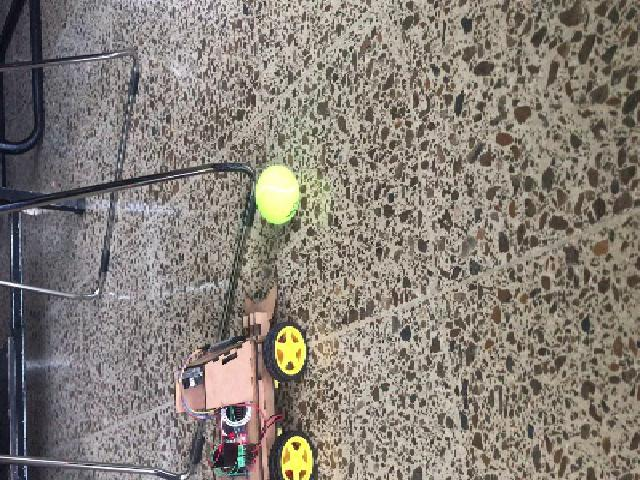Ball: (253, 167, 301, 226)
Robot: (174, 283, 317, 478)
